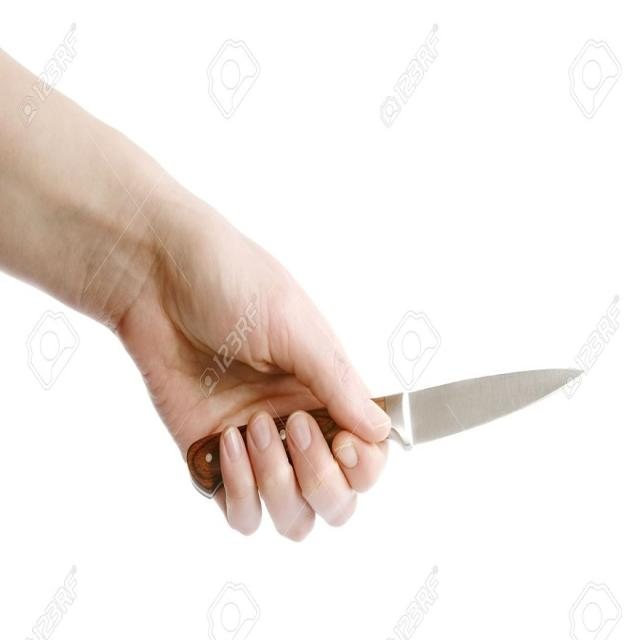knife: (189, 364, 584, 501)
